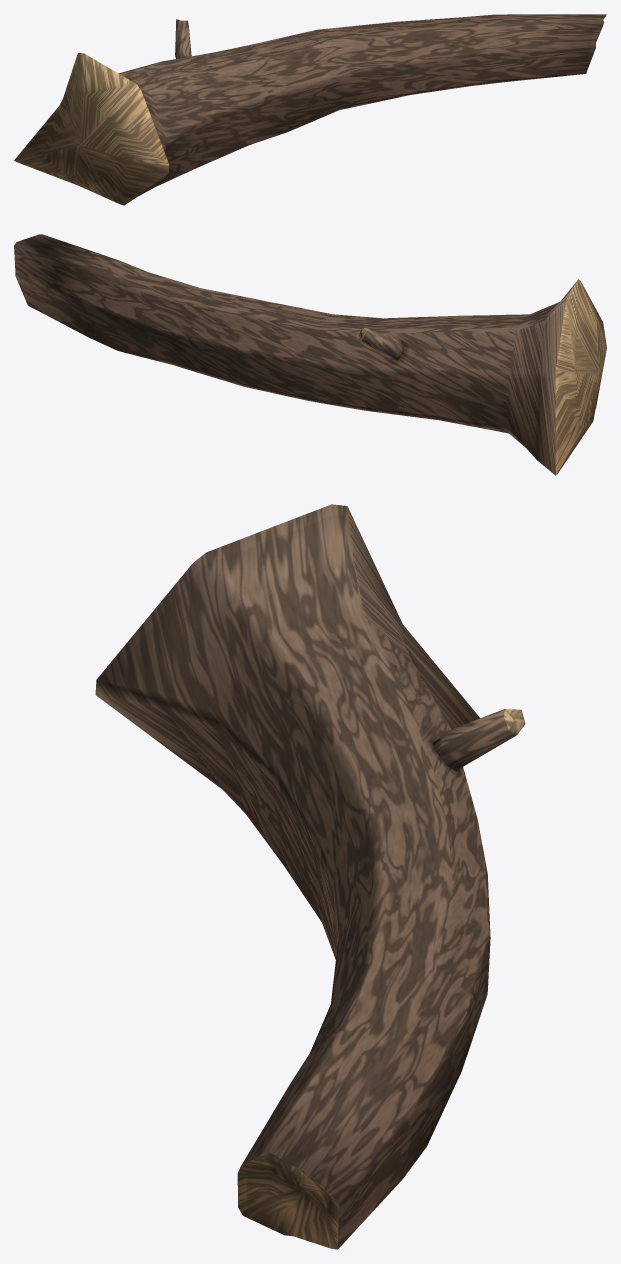
File: log_2.glb
3 views of the same model, one above another, from view 1: azimuth 30°, elevation 25°; view 2: azimuth 150°, elevation 25°; view 3: azimuth 270°, elevation 25° (orthographic). The views are drawn at different scales.
Parts seen in each view (by area): view 1: log_2; view 2: log_2; view 3: log_2.
Part boxes in pixels (x1,y1,x2,y2): log_2: (14,14,606,205); log_2: (14,234,606,475); log_2: (95,504,525,1249).
Bounding box in the file's own units: 4.4 × 1 × 1.5.
2 materials, 2 textured.
